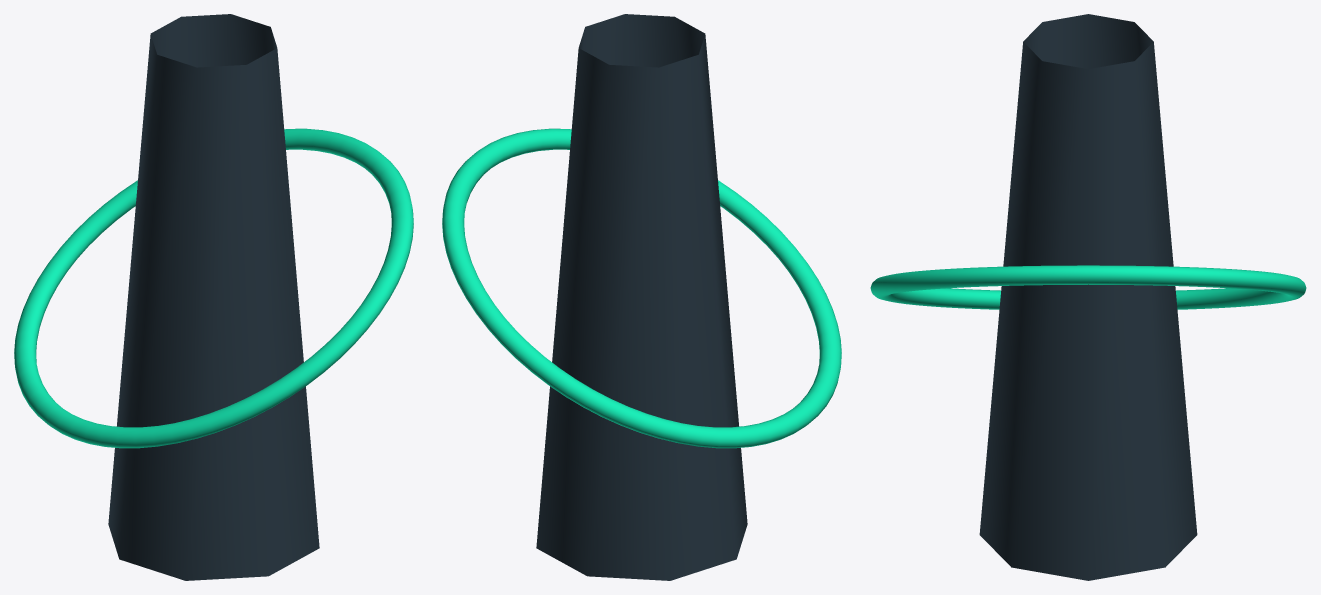
Rendered from signal-capsule.obj.
The picture shows the model from 3 angles, left to right: view 1: azimuth 30°, elevation 25°; view 2: azimuth 150°, elevation 25°; view 3: azimuth 270°, elevation 25°; orthographic projection.
Visible parts, largest first — view 1: alien-shard_part_2, machined-collar_part_1; view 2: alien-shard_part_2, machined-collar_part_1; view 3: alien-shard_part_2, machined-collar_part_1.
Boxes of the visible parts, bbox=[...] form: alien-shard_part_2: bbox=[108, 14, 319, 580]; machined-collar_part_1: bbox=[14, 128, 413, 448]; alien-shard_part_2: bbox=[536, 14, 747, 580]; machined-collar_part_1: bbox=[442, 128, 841, 448]; alien-shard_part_2: bbox=[979, 14, 1197, 580]; machined-collar_part_1: bbox=[870, 265, 1306, 309].
Size of the model in its own units: 0.7631 by 1.08 by 0.8651.
